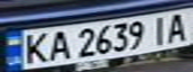2: (72, 25, 96, 58)
3: (109, 20, 133, 53)
6: (93, 21, 115, 56)
9: (127, 18, 151, 50)
A: (163, 10, 193, 43), (45, 27, 72, 62)
I: (145, 12, 175, 45)
K: (18, 29, 51, 65)
